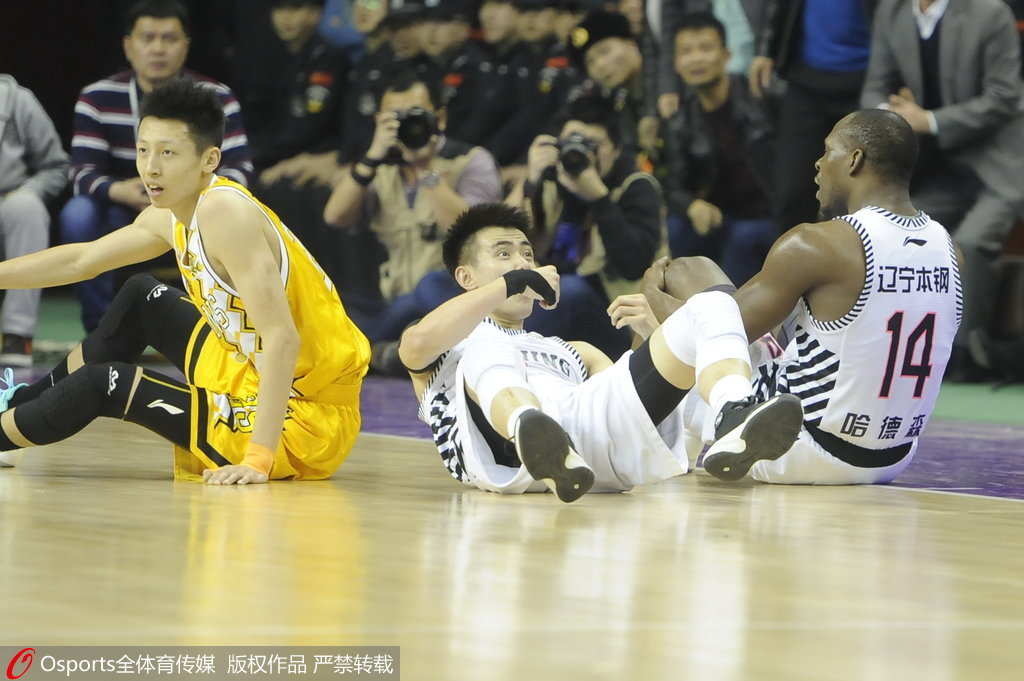10+: (3, 1, 1020, 498)
down: (2, 84, 379, 488), (394, 196, 808, 502), (699, 109, 966, 492)
